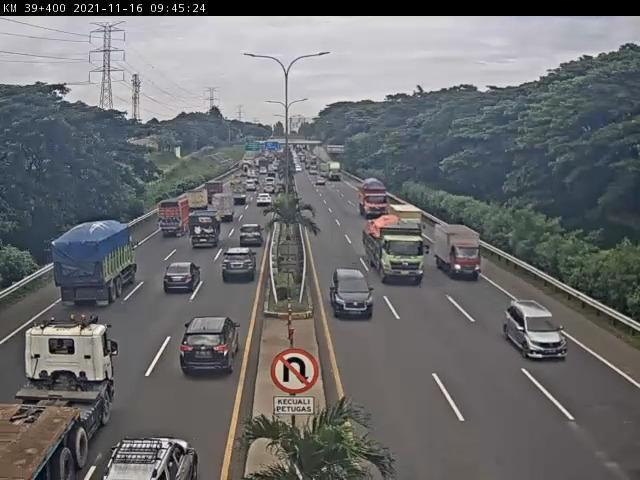car: (103, 435, 205, 480), (503, 298, 572, 362), (175, 316, 243, 378), (330, 266, 377, 321), (222, 246, 260, 285), (165, 263, 202, 296), (239, 223, 264, 252)
truck: (1, 315, 117, 480), (53, 221, 141, 309), (362, 215, 433, 288), (433, 225, 486, 282), (187, 206, 223, 253), (158, 198, 192, 238)
